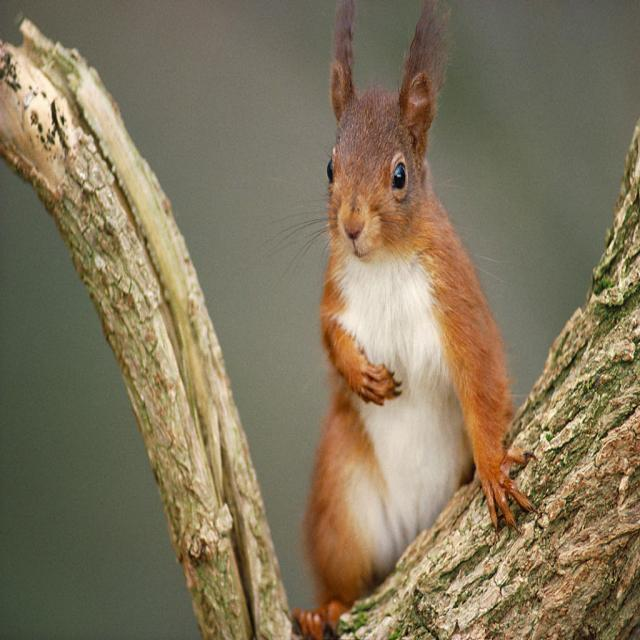Squirrel: (302, 27, 519, 615)
